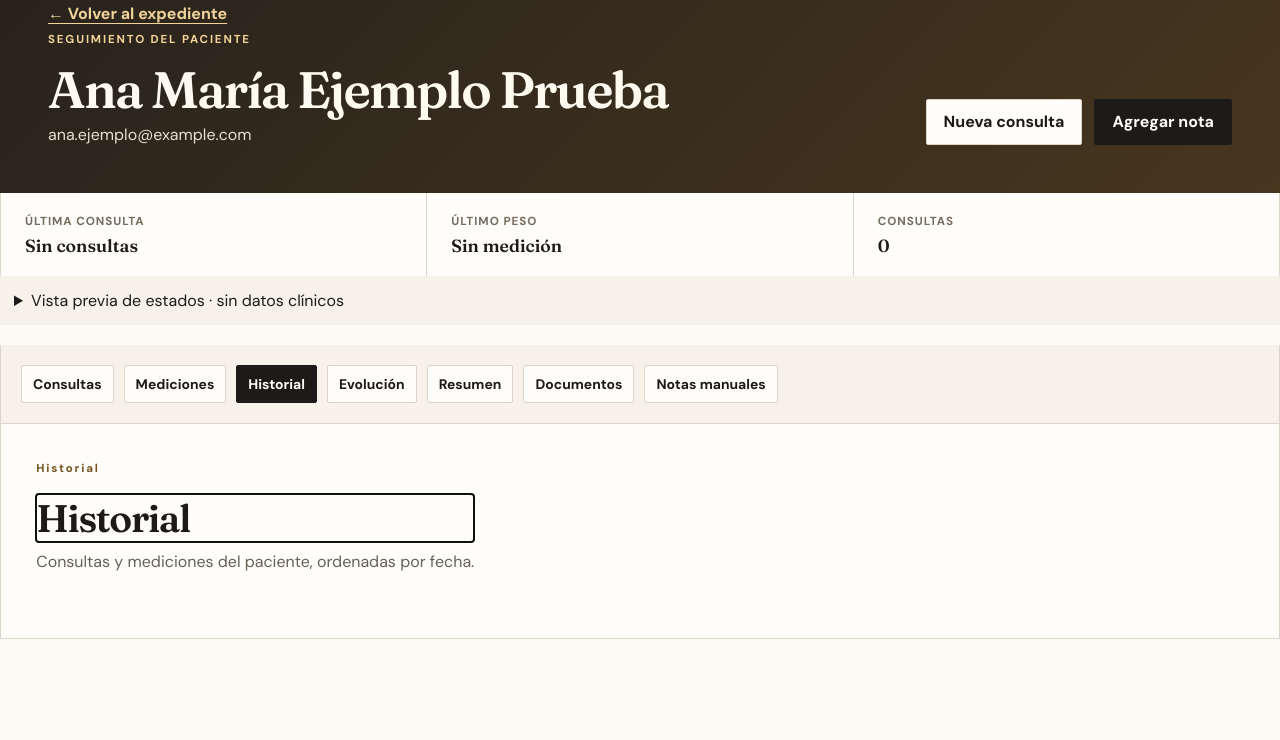
it: presentación de seguimiento › conserva estados visuales de carga, vacío y error para verificación accesible
The width and height of the screenshot is (1280, 740).
Click the heading "Vista previa de estados · sin datos clínicos" at (187, 301), box [31, 290, 344, 311]
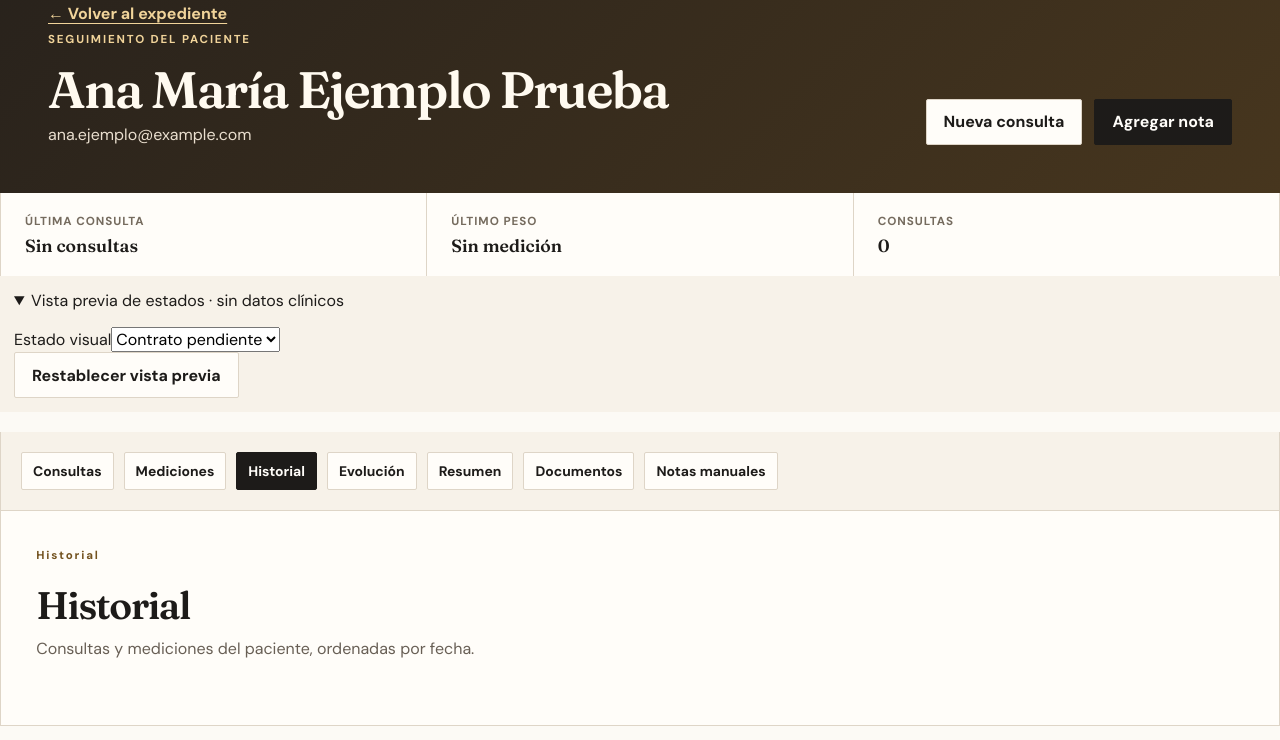
Select "Carga" in the dropdown labelled "Estado visual" at (196, 340), box [111, 327, 280, 352]
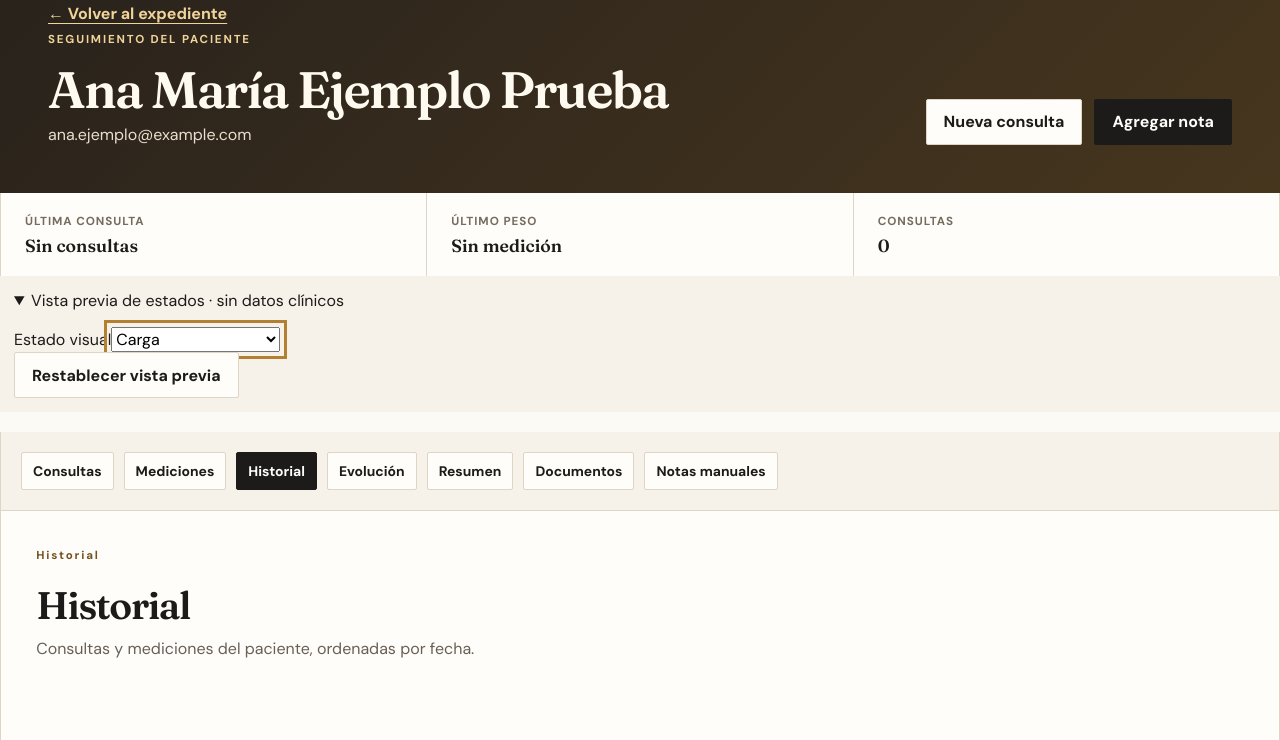
Select "Vacío" in the dropdown labelled "Estado visual" at (196, 340), box [111, 327, 280, 352]
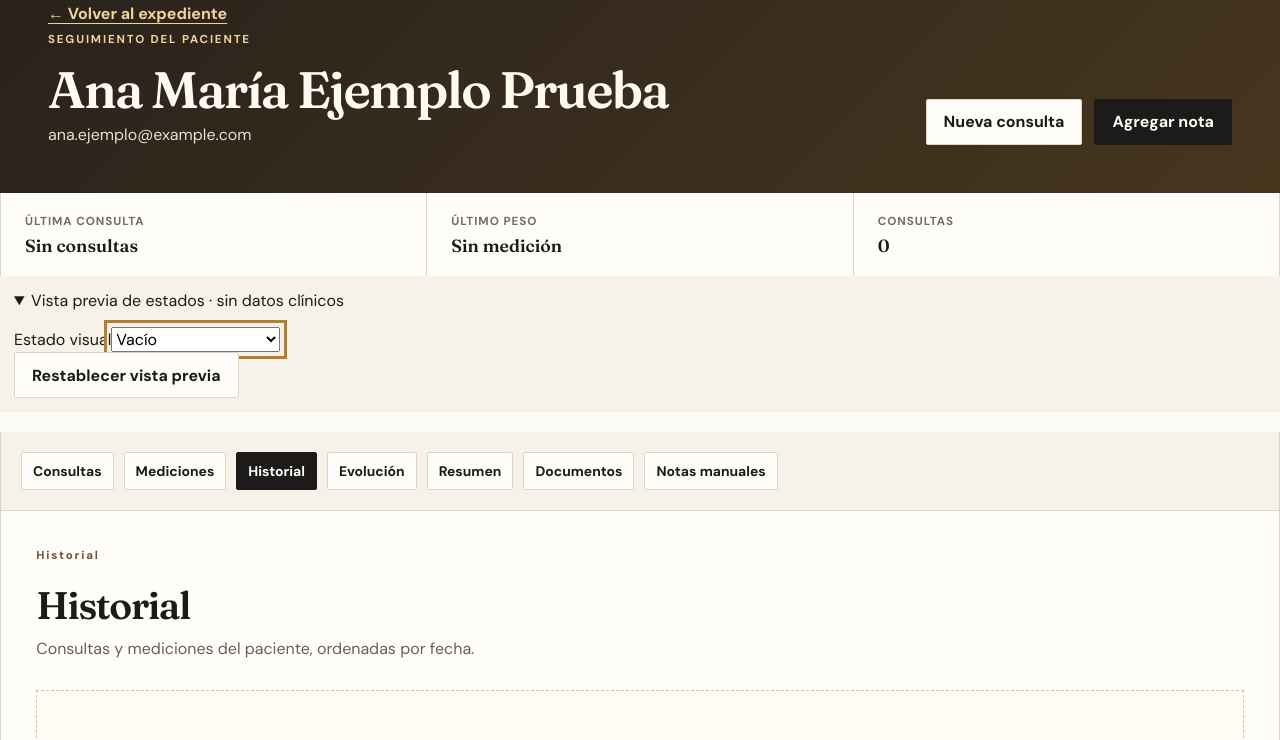
Select "Error" in the dropdown labelled "Estado visual" at (196, 340), box [111, 327, 280, 352]
(page scrolled)
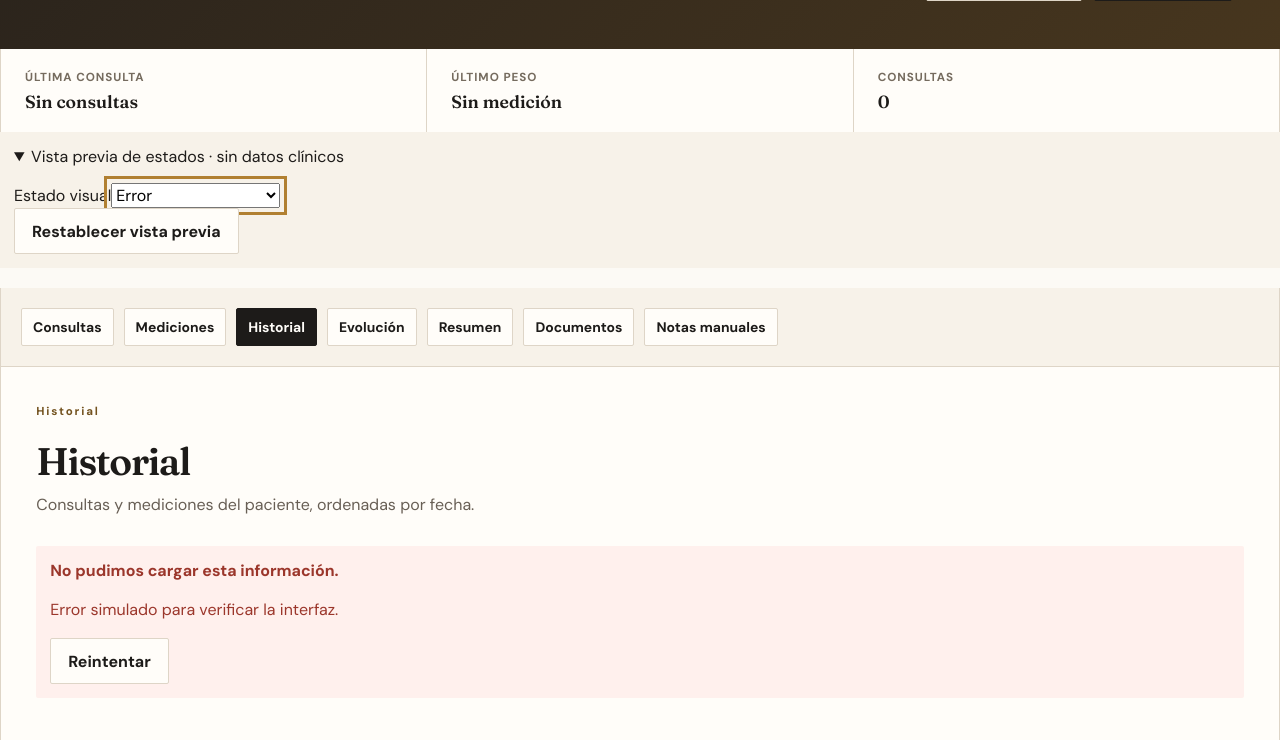
Expected: the message shows "simulado", [50, 599, 338, 620]
